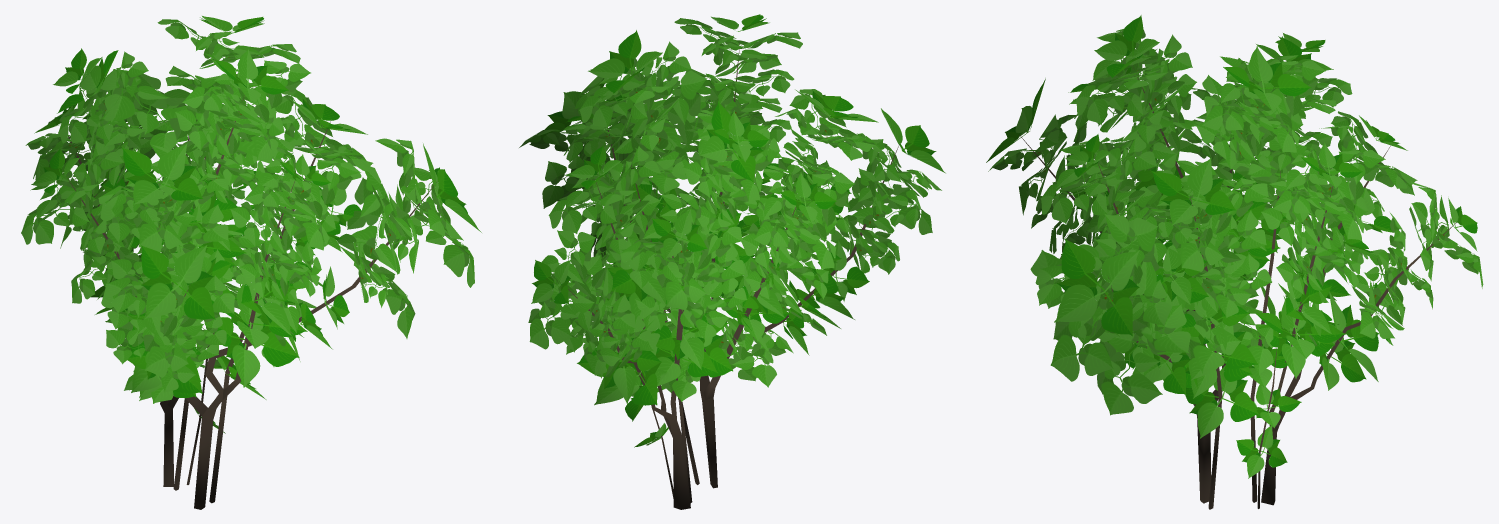
The model's file is PT_Lilac_02.fbx.
The picture shows the model from 3 angles, left to right: view 1: azimuth 30°, elevation 25°; view 2: azimuth 150°, elevation 25°; view 3: azimuth 270°, elevation 25°; orthographic projection. The views are drawn at different scales.
Visible parts, largest first — view 1: PT_Lilac_02_LOD0; view 2: PT_Lilac_02_LOD0; view 3: PT_Lilac_02_LOD0.
Boxes of the visible parts, x1,y1,x2,y2 form: PT_Lilac_02_LOD0: (21, 16, 481, 509); PT_Lilac_02_LOD0: (519, 14, 945, 509); PT_Lilac_02_LOD0: (986, 15, 1483, 509).
Size of what is drawn, in the model's own units: 282 by 323 by 308.
